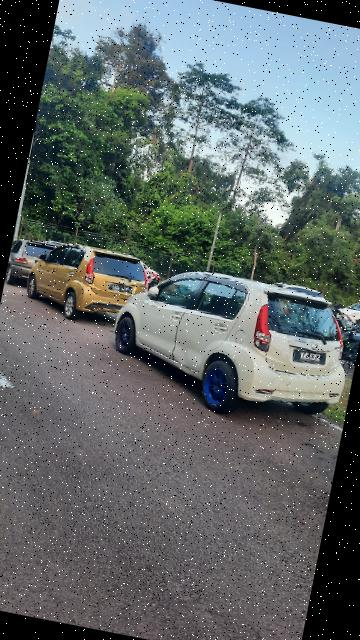License_Plate: (286, 344, 329, 370), (106, 282, 136, 299)
car: (95, 256, 360, 441), (20, 227, 158, 335)
